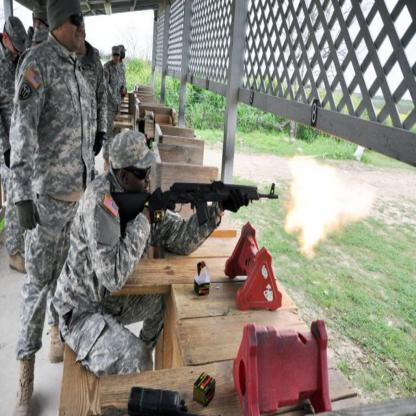face: (125, 163, 151, 204), (61, 9, 83, 47), (5, 40, 19, 56), (114, 53, 120, 64), (121, 50, 126, 59)
